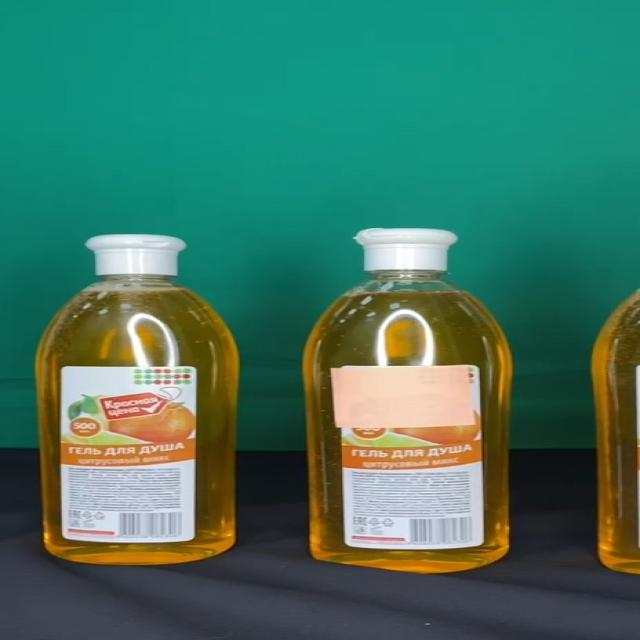Bottle: (301, 227, 513, 573), (33, 234, 239, 564)
Cap: (354, 228, 458, 270), (85, 234, 186, 275)
